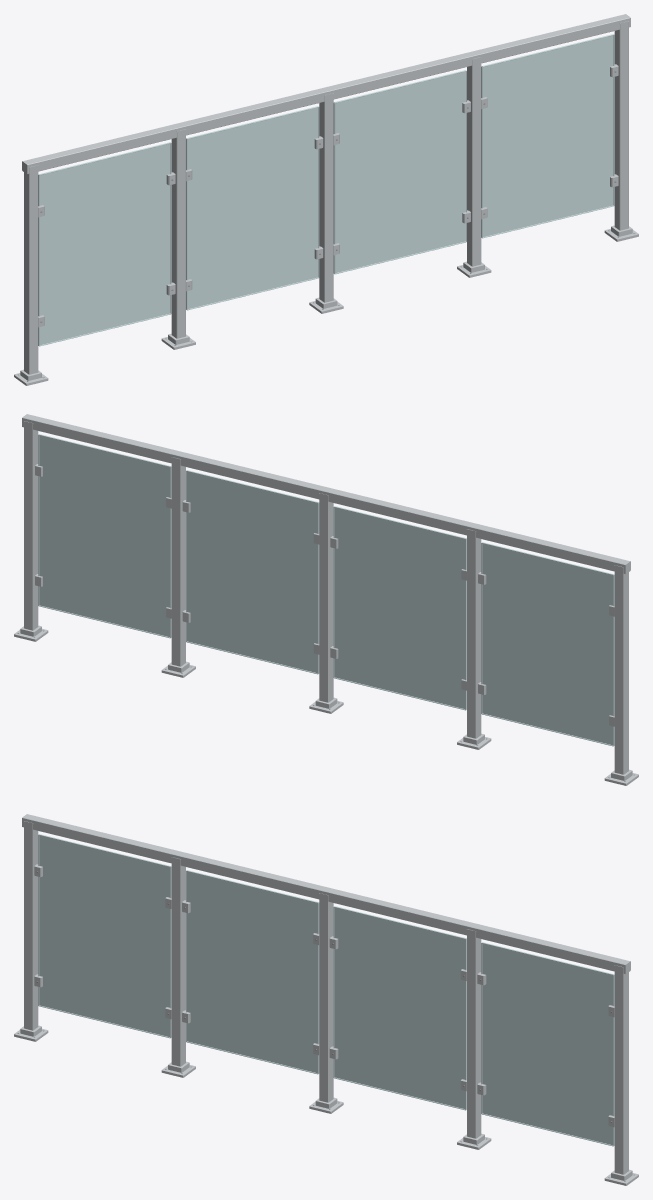
The model's file is silver-frame-glass-landing-railing-03.glb.
3 views of the same model, one above another, from view 1: azimuth 30°, elevation 25°; view 2: azimuth 150°, elevation 25°; view 3: azimuth 330°, elevation 25° (orthographic).
Visible parts, largest first — view 1: Clear glass infill, Rectangular upright, Continuous rectangular handrail, Polished glass edges, Glass clamp body, Square mounting foot, Post base cover; view 2: Clear glass infill, Rectangular upright, Continuous rectangular handrail, Polished glass edges, Glass clamp body, Square mounting foot, Post base cover; view 3: Clear glass infill, Rectangular upright, Continuous rectangular handrail, Polished glass edges, Glass clamp body, Square mounting foot, Post base cover.
Boxes of the visible parts, x1,y1,x2,y2 form: Clear glass infill: (39, 35, 613, 345); Rectangular upright: (24, 22, 628, 374); Continuous rectangular handrail: (22, 14, 630, 174); Polished glass edges: (38, 34, 614, 346); Glass clamp body: (38, 64, 618, 327); Square mounting foot: (14, 228, 638, 385); Post base cover: (20, 225, 632, 380); Clear glass infill: (39, 435, 613, 745); Rectangular upright: (24, 422, 628, 774); Continuous rectangular handrail: (22, 414, 630, 574); Polished glass edges: (38, 434, 614, 746); Glass clamp body: (35, 464, 614, 726); Square mounting foot: (14, 628, 638, 785); Post base cover: (20, 625, 632, 780); Clear glass infill: (39, 835, 613, 1145); Rectangular upright: (24, 822, 628, 1174); Continuous rectangular handrail: (22, 814, 630, 974); Polished glass edges: (38, 834, 614, 1146); Glass clamp body: (34, 864, 614, 1127); Square mounting foot: (14, 1028, 638, 1185); Post base cover: (20, 1025, 632, 1180).
Bounding box in the file's own units: 3.32 × 1.12 × 0.12.
